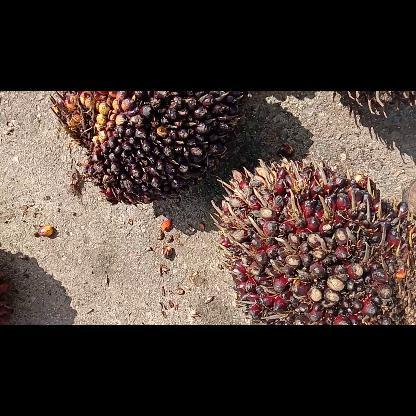TBS mentah: (219, 160, 415, 324), (54, 91, 244, 203)
